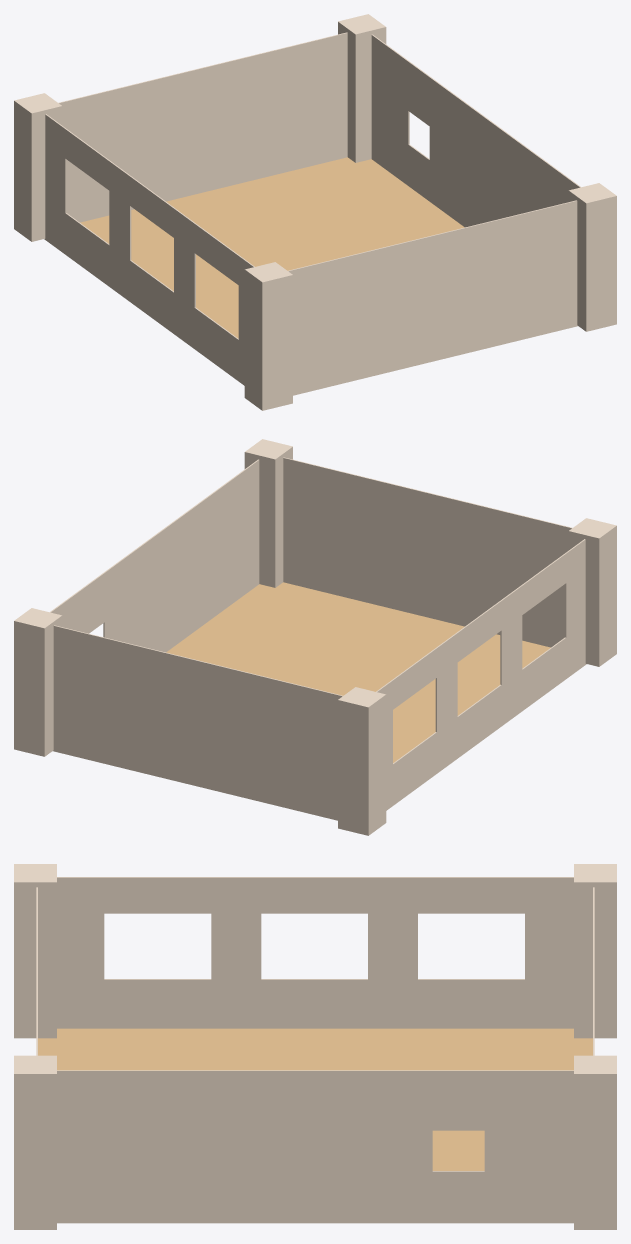
Rendered from dinding.fbx.
3 renders of one model, top to bottom at view 1: azimuth 30°, elevation 25°; view 2: azimuth 150°, elevation 25°; view 3: azimuth 270°, elevation 25°, orthographic. The views are drawn at different scales.
Parts seen in each view (by area): view 1: Cube.007, Plane.010; view 2: Cube.007, Plane.010; view 3: Cube.007, Plane.010.
Boxes of the visible parts, x1=… form: Cube.007: x1=44, y1=32, x2=580, y2=395; Plane.010: x1=14, y1=14, x2=616, y2=410; Cube.007: x1=50, y1=457, x2=586, y2=820; Plane.010: x1=14, y1=439, x2=616, y2=835; Cube.007: x1=36, y1=877, x2=594, y2=1223; Plane.010: x1=14, y1=864, x2=616, y2=1229.
Size of the model in its own units: 895 by 313 by 1086.
